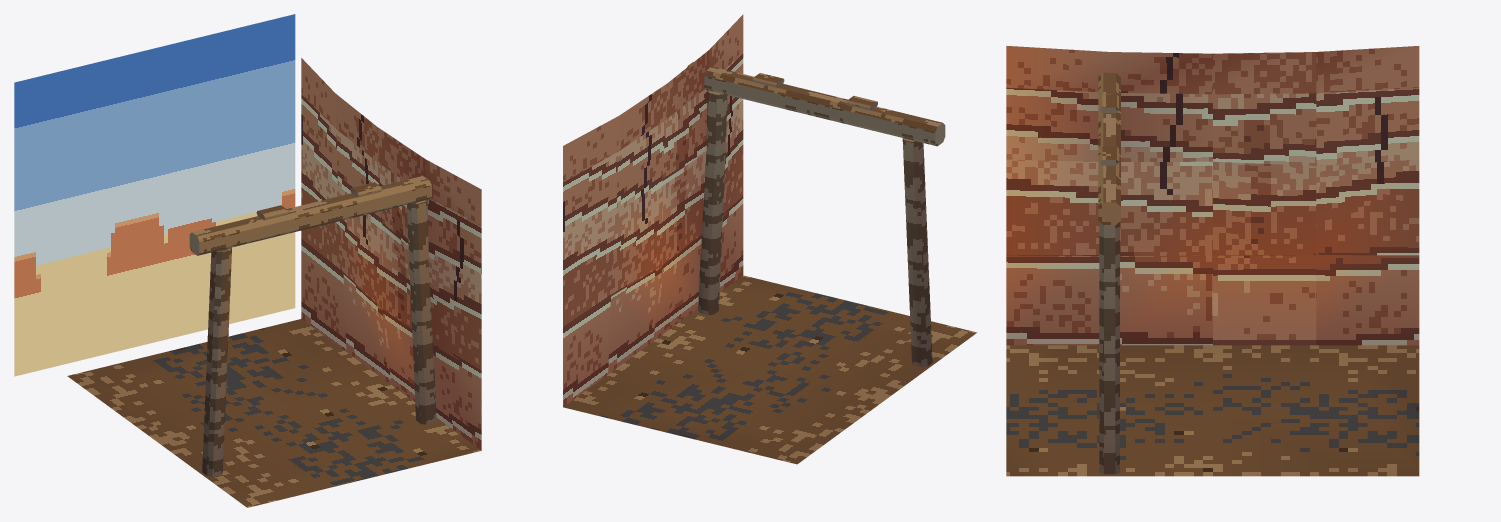
Rendered from wmine.tunnel__mouth.glb.
3 renders of one model, left to right at view 1: azimuth 30°, elevation 25°; view 2: azimuth 150°, elevation 25°; view 3: azimuth 270°, elevation 25°, orthographic. The views are drawn at different scales.
Parts seen in each view (by area): view 1: kit_card_depth, kit_shell_walls, kit_shell_floor, kit_sets, kit_caps, kit_wedges; view 2: kit_shell_walls, kit_shell_floor, kit_sets, kit_caps, kit_wedges; view 3: kit_shell_walls, kit_shell_floor, kit_sets, kit_caps, kit_wedges.
Boxes of the visible parts, bbox=[...] form: kit_card_depth: bbox=[14, 14, 295, 376]; kit_shell_walls: bbox=[301, 58, 481, 450]; kit_shell_floor: bbox=[67, 319, 481, 507]; kit_sets: bbox=[202, 200, 436, 476]; kit_caps: bbox=[189, 176, 431, 255]; kit_wedges: bbox=[256, 182, 381, 220]; kit_shell_walls: bbox=[563, 14, 743, 406]; kit_shell_floor: bbox=[563, 275, 977, 464]; kit_sets: bbox=[698, 90, 932, 367]; kit_caps: bbox=[687, 62, 945, 146]; kit_wedges: bbox=[752, 73, 877, 110]; kit_shell_walls: bbox=[1006, 45, 1419, 345]; kit_shell_floor: bbox=[1006, 345, 1419, 476]; kit_sets: bbox=[1099, 222, 1119, 474]; kit_caps: bbox=[1098, 72, 1120, 224]; kit_wedges: bbox=[1100, 94, 1118, 165].
Size of the model in its own units: 3.6 by 3.6 by 4.65.
6 materials, 6 textured.
